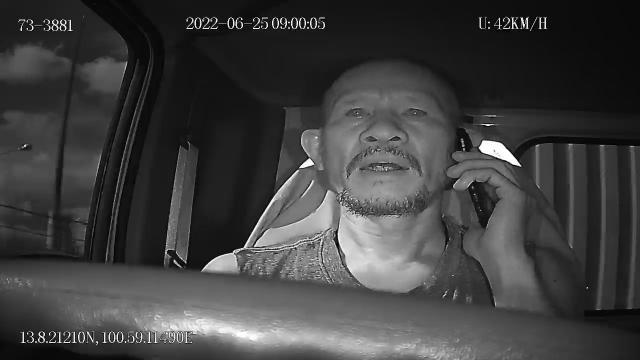PhoneUse: (454, 124, 490, 230)
SafeDriving: (395, 97, 436, 124), (338, 98, 376, 127)
